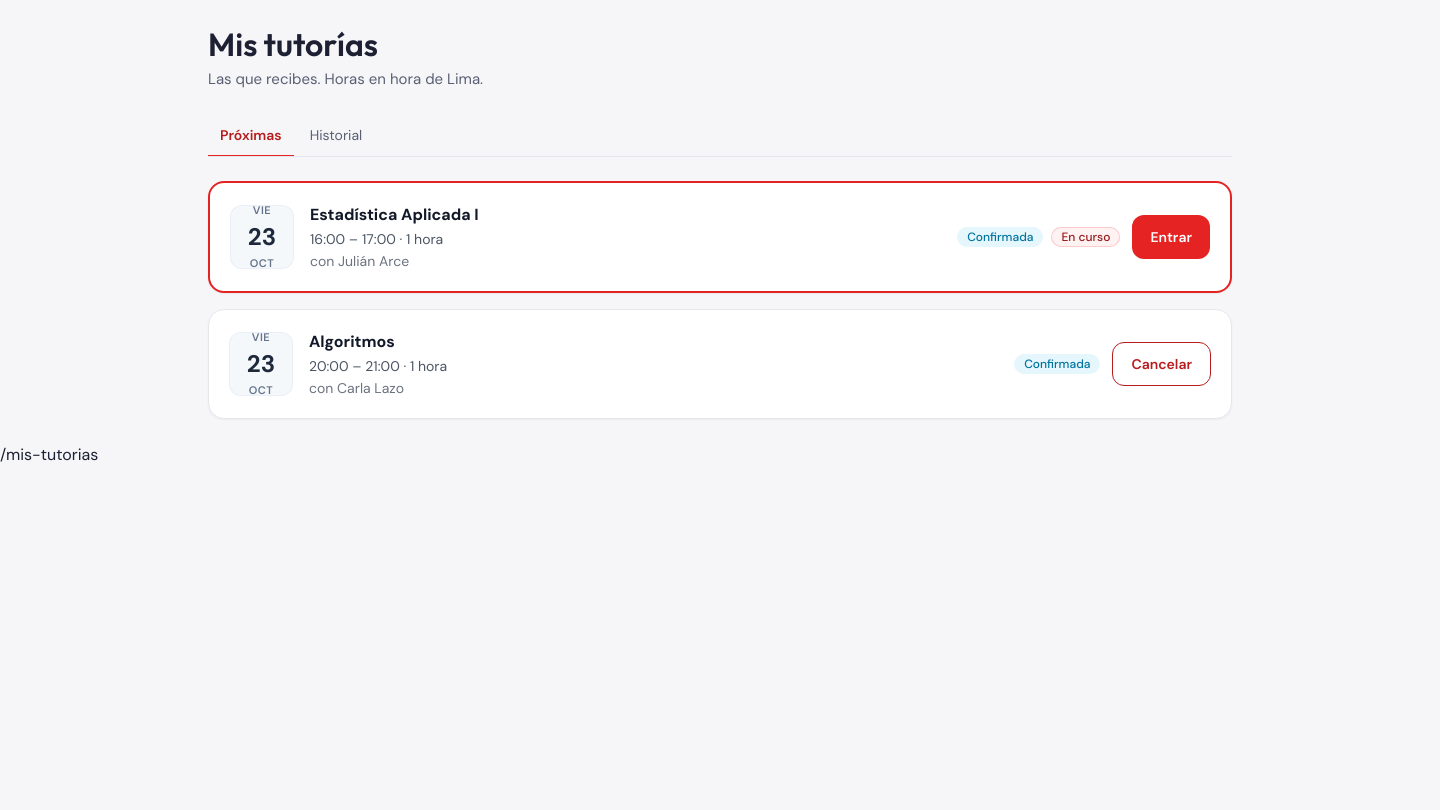
Test case: FE-12 MyTutoringsPage › dismisses late cancellation dialog without cancelling when clicking "No, mantenerla"
Click the button "Cancelar".
click(1162, 364)  # box [1112,342,1211,386]
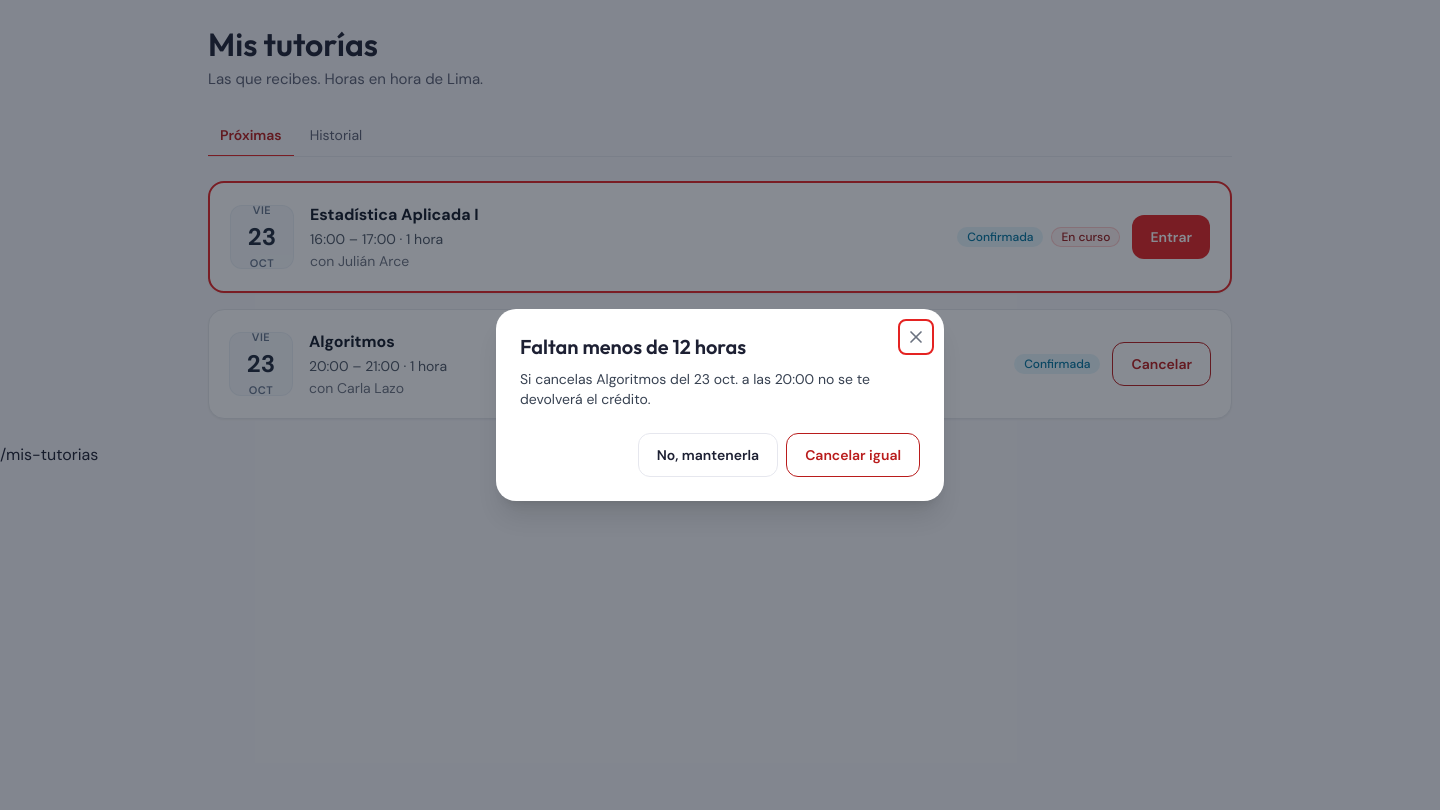
Expected: the heading "Faltan menos de 12 horas" is shown, [520,334,746,359]
Click the button "No, mantenerla".
click(708, 455)  # box [638,433,778,477]
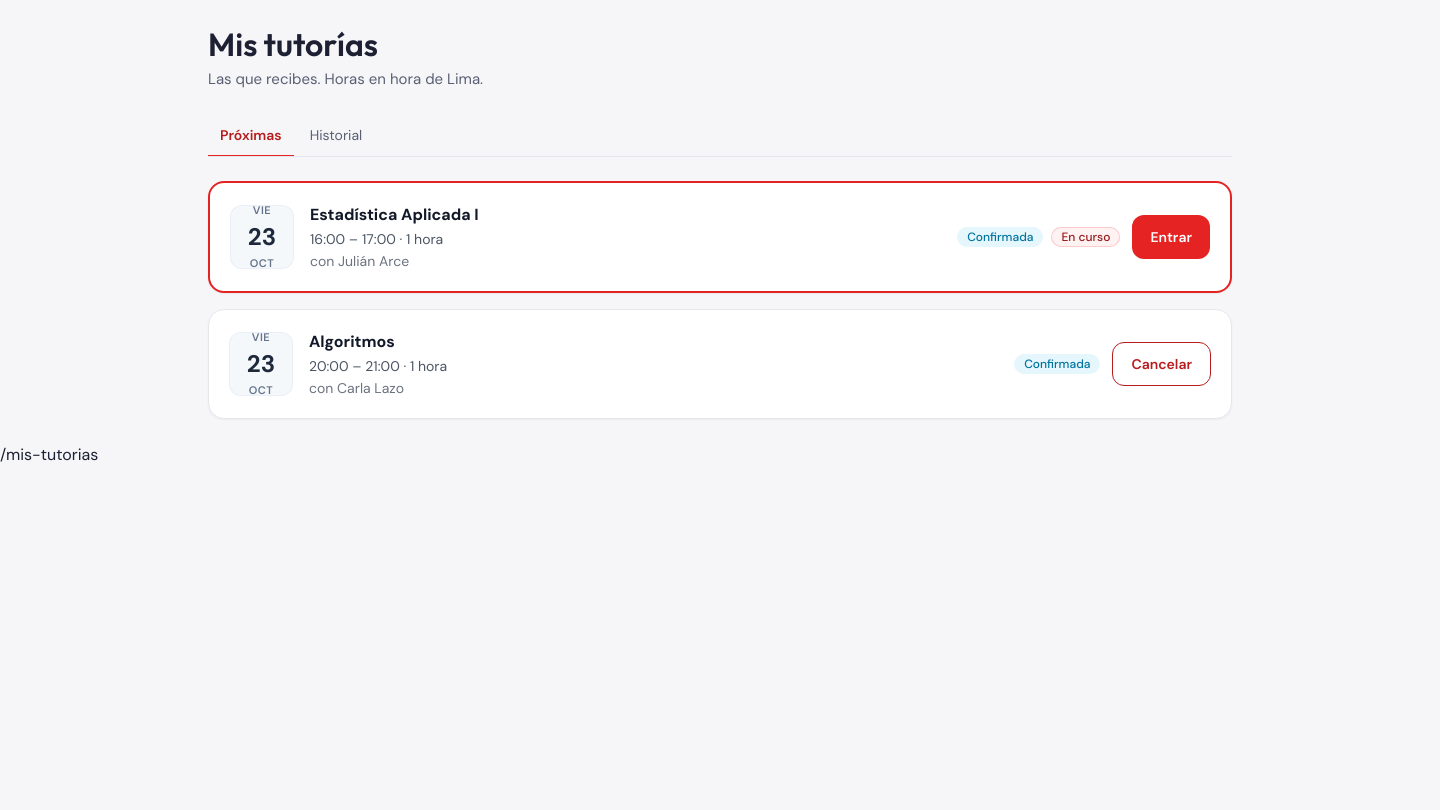
Expected: the heading "Faltan menos de 12 horas" is gone
